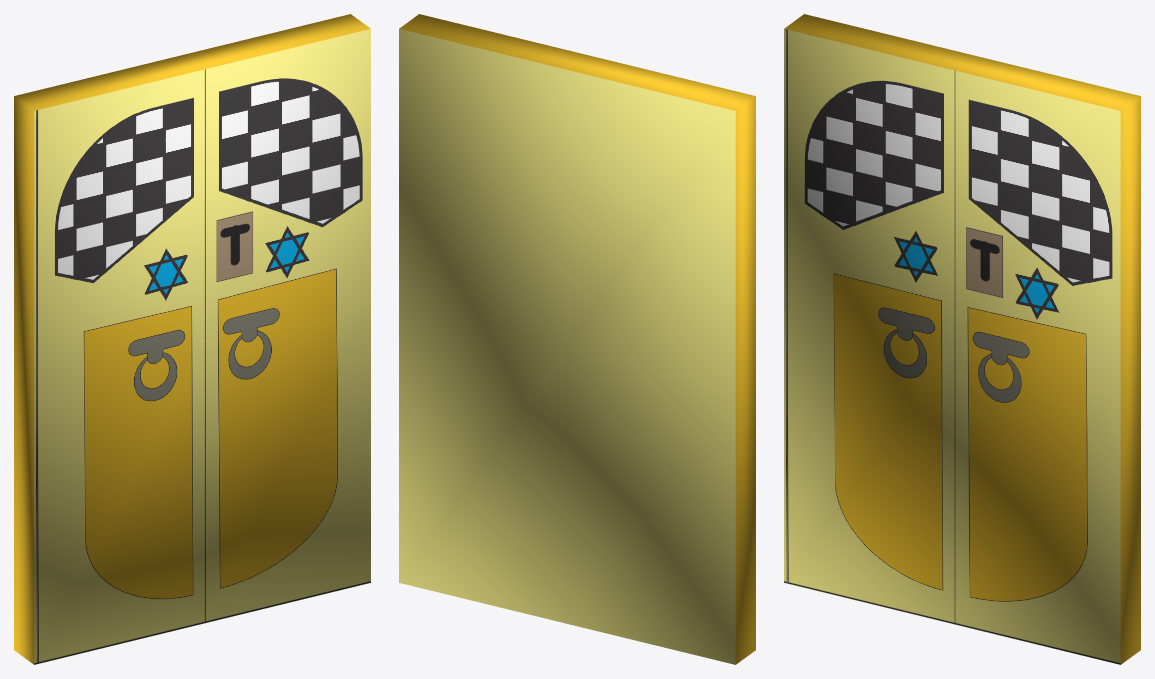
The model's file is porta.fbx.
3 views of the same model, side by side, from view 1: azimuth 30°, elevation 25°; view 2: azimuth 150°, elevation 25°; view 3: azimuth 330°, elevation 25° (orthographic).
Parts seen in each view (by area): view 1: Cube_009; view 2: Cube_009; view 3: Cube_009.
Boxes of the visible parts, box(x1,y1,x2,y2) form: Cube_009: box(14, 14, 370, 664); Cube_009: box(399, 14, 755, 664); Cube_009: box(784, 14, 1140, 664).
Size of the model in its own units: 1.99 by 3.14 by 0.2073.
